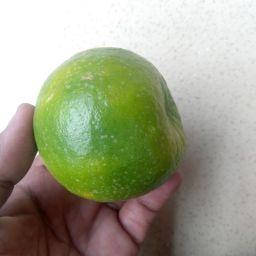Unripe: (32, 47, 183, 203)
